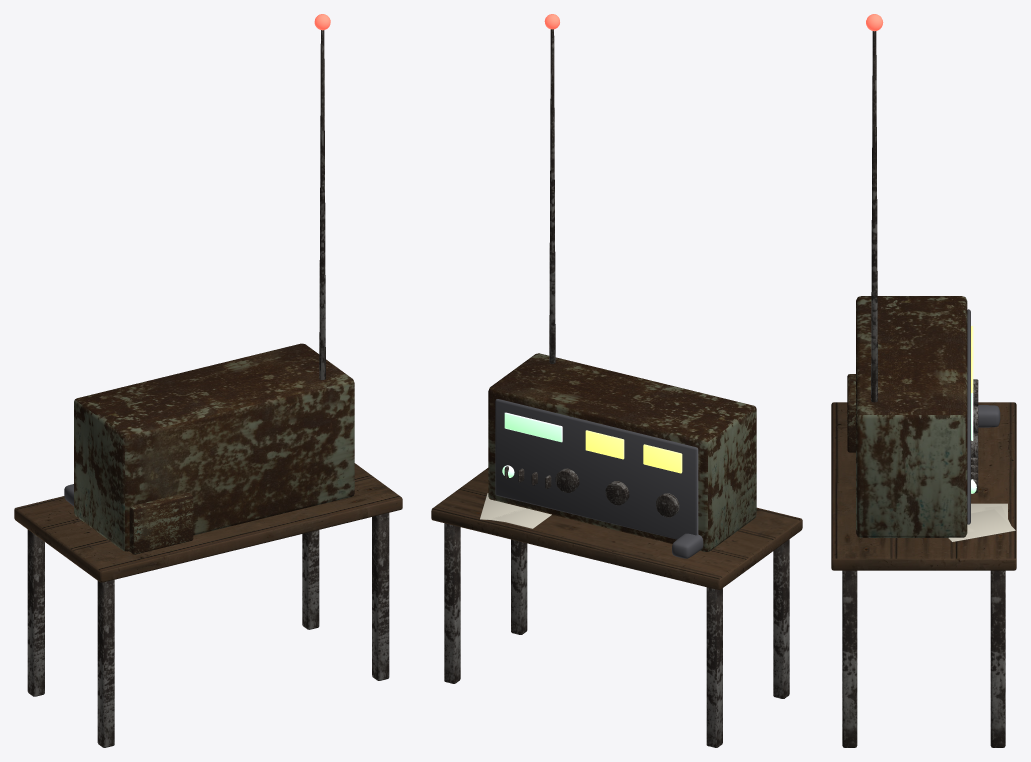
File: prop_radio_console.glb
The picture shows the model from 3 angles, left to right: view 1: azimuth 30°, elevation 25°; view 2: azimuth 150°, elevation 25°; view 3: azimuth 270°, elevation 25°; orthographic projection. The views are drawn at different scales.
Parts seen in each view (by area): view 1: Root_Geo; view 2: Root_Geo; view 3: Root_Geo.
Boxes of the visible parts, x1,y1,x2,y2 form: Root_Geo: (14,14,402,747); Root_Geo: (431,14,802,747); Root_Geo: (831,14,1016,747).
Bounding box in the file's own units: 1.5 × 3.15 × 0.75.
Materials: 10 (3 with a texture image).
